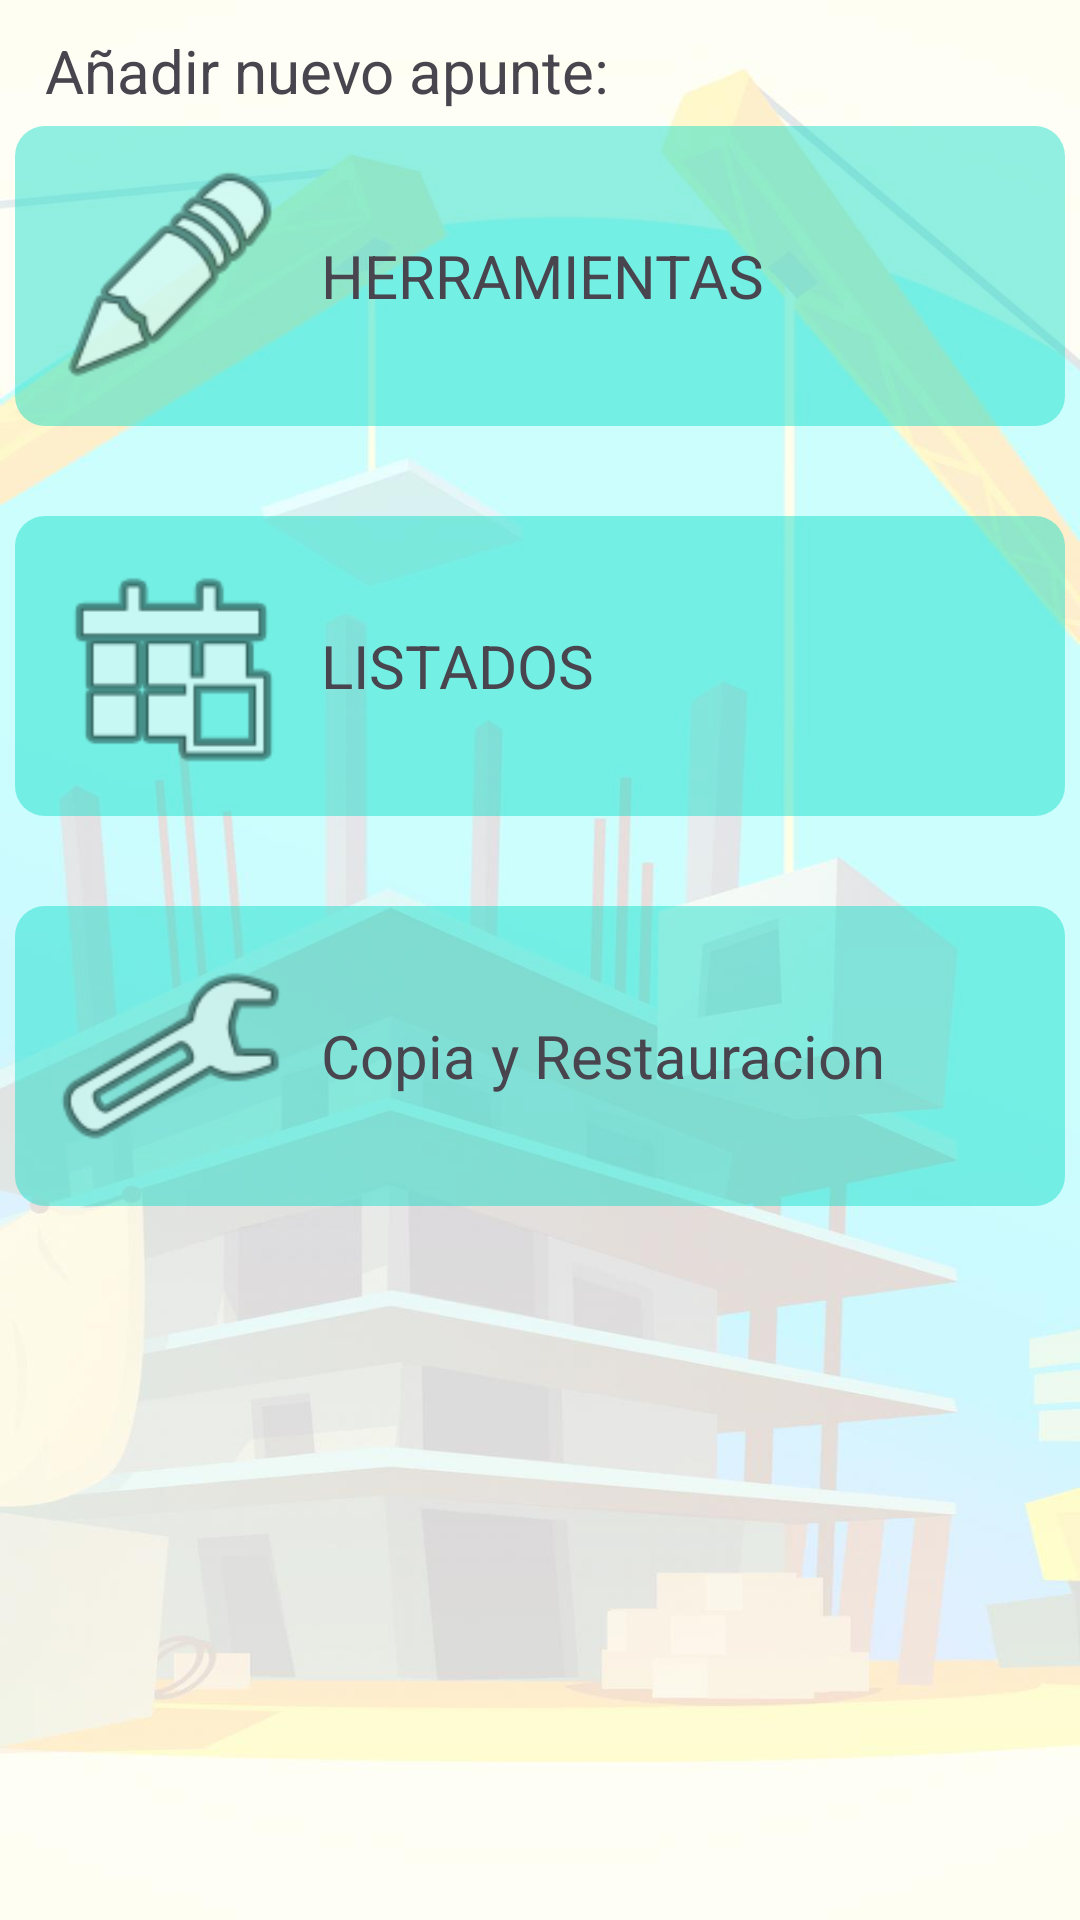

Icons on this 1080 x 1920 Android screen, each with the point to tap as (x=x, y=y):
edit: (x=171, y=296)
preferences: (x=171, y=1056)
today: (x=173, y=670)
